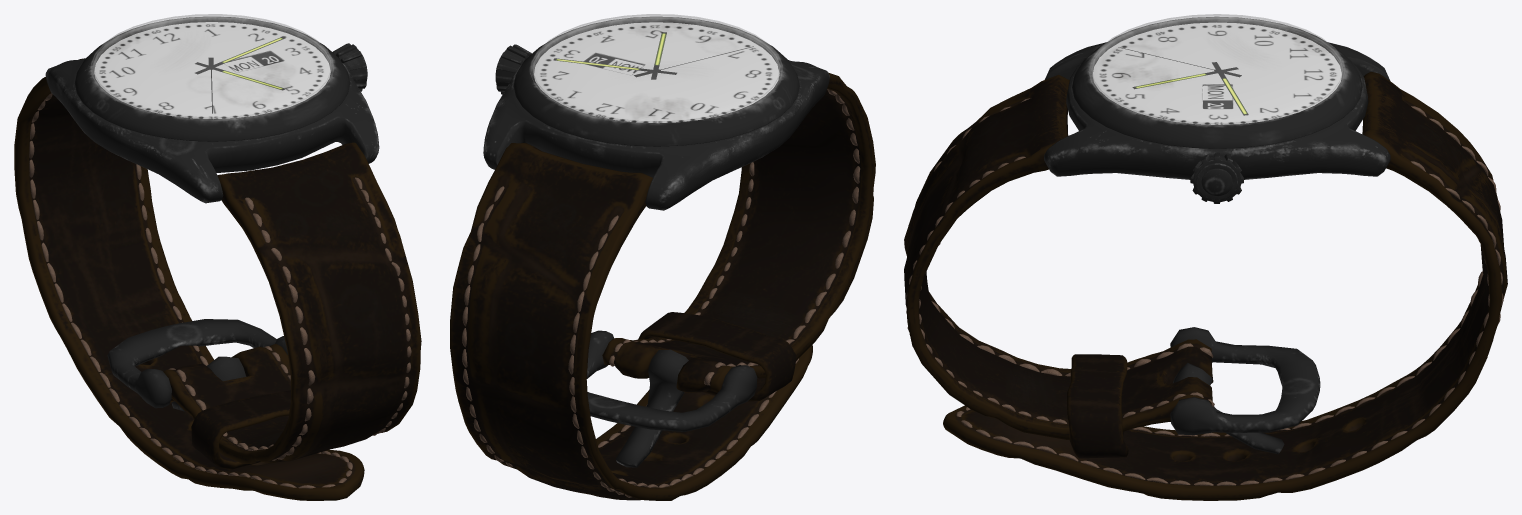
3 renders of one model, left to right at view 1: azimuth 30°, elevation 25°; view 2: azimuth 150°, elevation 25°; view 3: azimuth 270°, elevation 25°, orthographic. The views are drawn at different scales.
Parts seen in each view (by area): view 1: belt01_low, belt02_low, watch glass_high.001, watch inside_low, watch body bottom_low, watch body top_low, belt fixer_low, stitches, belt small part_low, watch head_low, watch pointers; view 2: belt02_low, belt01_low, watch glass_high.001, watch inside_low, watch body bottom_low, watch body top_low, belt fixer_low, stitches, belt small part_low, watch head_low, watch pointers; view 3: belt02_low, belt01_low, watch glass_high.001, watch inside_low, watch body bottom_low, watch body top_low, belt fixer_low, stitches, belt small part_low, watch head_low, watch pointers.
Part boxes in pixels (x1=…): belt01_low: x1=163, y1=142, x2=421, y2=463; belt02_low: x1=14, y1=58, x2=364, y2=500; watch glass_high.001: x1=91, y1=14, x2=333, y2=119; watch inside_low: x1=94, y1=22, x2=330, y2=118; watch body bottom_low: x1=45, y1=58, x2=379, y2=203; watch body top_low: x1=74, y1=17, x2=349, y2=141; belt fixer_low: x1=107, y1=319, x2=287, y2=411; stitches: x1=29, y1=93, x2=411, y2=488; belt small part_low: x1=191, y1=390, x2=290, y2=469; watch head_low: x1=332, y1=43, x2=367, y2=91; watch pointers: x1=195, y1=37, x2=285, y2=113; belt02_low: x1=450, y1=143, x2=812, y2=500; belt01_low: x1=602, y1=72, x2=875, y2=393; watch glass_high.001: x1=530, y1=14, x2=782, y2=123; watch inside_low: x1=534, y1=22, x2=779, y2=123; watch body bottom_low: x1=483, y1=60, x2=829, y2=210; watch body top_low: x1=513, y1=16, x2=799, y2=146; belt fixer_low: x1=587, y1=330, x2=757, y2=467; stitches: x1=462, y1=89, x2=860, y2=497; belt small part_low: x1=638, y1=312, x2=796, y2=401; watch head_low: x1=495, y1=44, x2=531, y2=94; watch pointers: x1=553, y1=32, x2=753, y2=79; belt02_low: x1=943, y1=71, x2=1507, y2=500; belt01_low: x1=904, y1=75, x2=1213, y2=439; watch glass_high.001: x1=1089, y1=14, x2=1345, y2=125; watch inside_low: x1=1093, y1=22, x2=1341, y2=124; watch body bottom_low: x1=1044, y1=42, x2=1390, y2=179; watch body top_low: x1=1072, y1=17, x2=1362, y2=148; belt fixer_low: x1=1170, y1=327, x2=1320, y2=454; stitches: x1=906, y1=98, x2=1503, y2=485; belt small part_low: x1=1067, y1=354, x2=1128, y2=458; watch head_low: x1=1190, y1=152, x2=1243, y2=203; watch pointers: x1=1118, y1=47, x2=1248, y2=115.
Size of the model in its own units: 78.54 by 110 by 143.
Materials: 11 (11 with a texture image).
